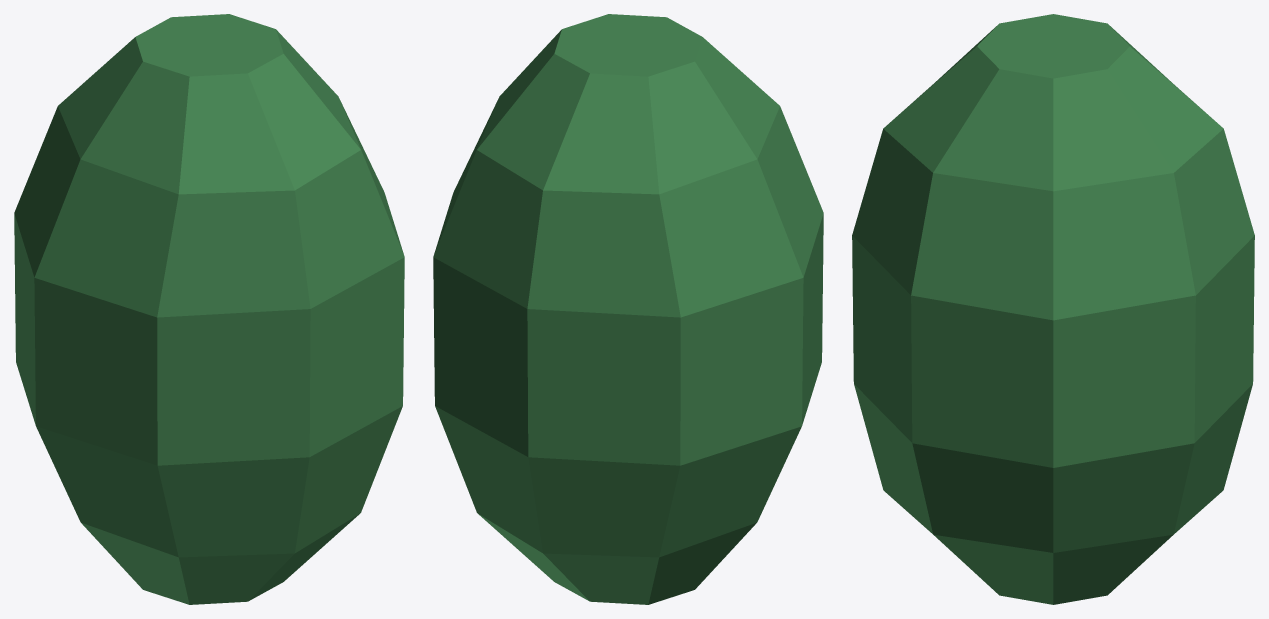
File: SM_Malachite.glb
The picture shows the model from 3 angles, left to right: view 1: azimuth 30°, elevation 25°; view 2: azimuth 150°, elevation 25°; view 3: azimuth 270°, elevation 25°; orthographic projection.
Visible parts, largest first — view 1: SM_Malachite; view 2: SM_Malachite; view 3: SM_Malachite.
Boxes of the visible parts, x1,y1,x2,y2 form: SM_Malachite: (14, 14, 404, 604); SM_Malachite: (433, 14, 823, 604); SM_Malachite: (852, 14, 1254, 604).
Bounding box in the file's own units: 0.125 × 0.1802 × 0.125.
1 material, 1 textured.
